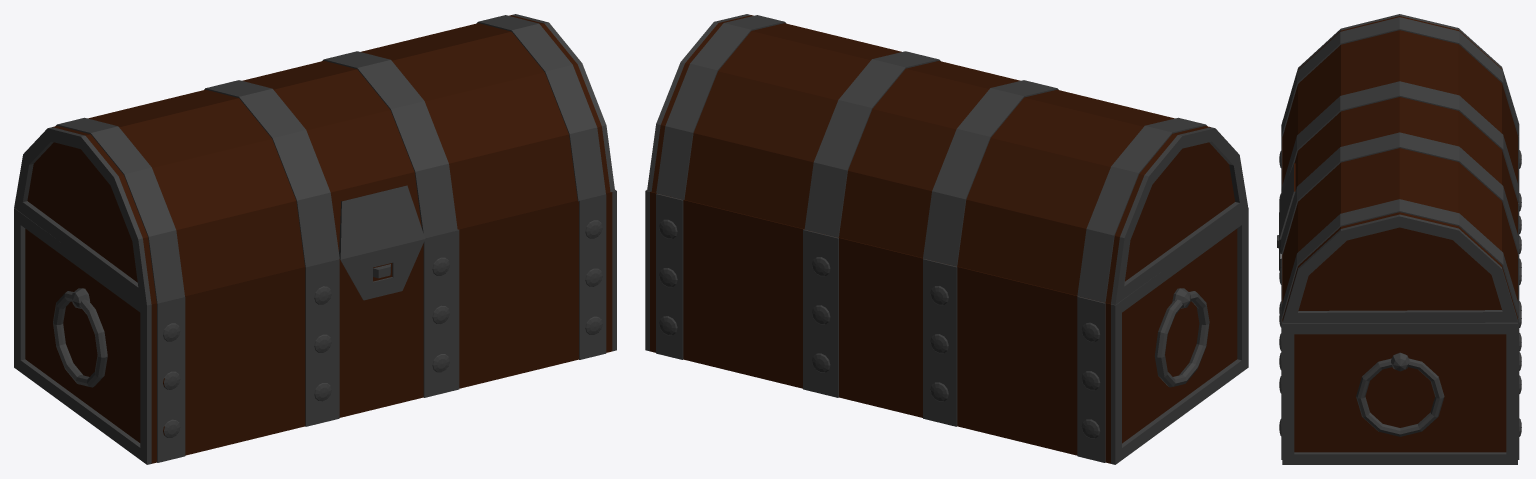
The model's file is Chest.fbx.
3 views of the same model, side by side, from view 1: azimuth 30°, elevation 25°; view 2: azimuth 150°, elevation 25°; view 3: azimuth 270°, elevation 25° (orthographic). The views are drawn at different scales.
Parts seen in each view (by area): view 1: Cube.001, Sphere; view 2: Cube.001, Sphere; view 3: Cube.001, Sphere.
Part boxes in pixels (x1,y1,x2,y2): Cube.001: (14, 14, 614, 305); Sphere: (14, 190, 616, 464); Cube.001: (647, 14, 1248, 304); Sphere: (645, 190, 1248, 464); Cube.001: (1279, 14, 1519, 322); Sphere: (1277, 136, 1521, 464).
Size of the model in its own units: 1.06 by 0.5831 by 0.5193.
